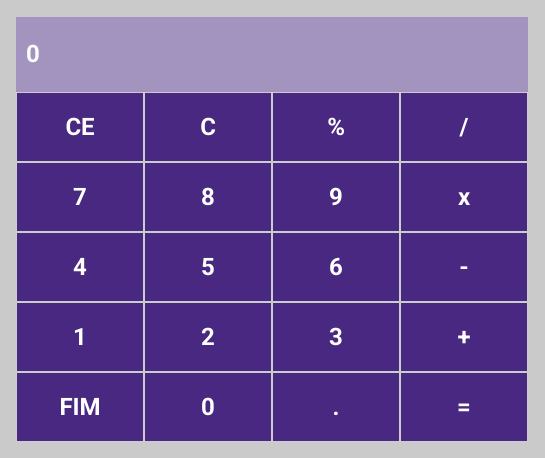
Test case: Calculator Operations › Manipulando operações de Divisão
What coordinates should you click on to do the following:
click the button "6"
I would click on:
 (336, 266)
Its box is top-left (272, 232), bottom-right (400, 302).
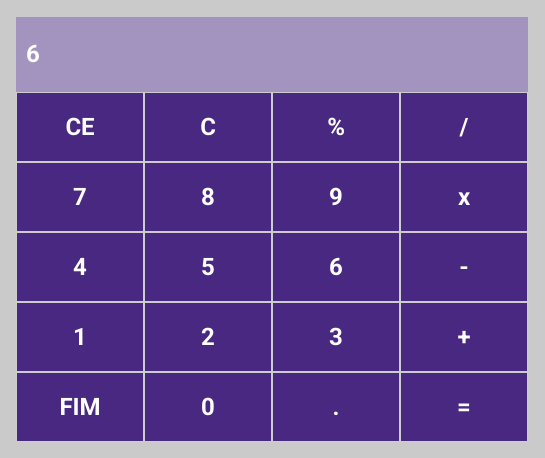
What coordinates should you click on to do the following:
click the button "/"
I would click on:
 (464, 126)
Its box is top-left (400, 92), bottom-right (528, 162).
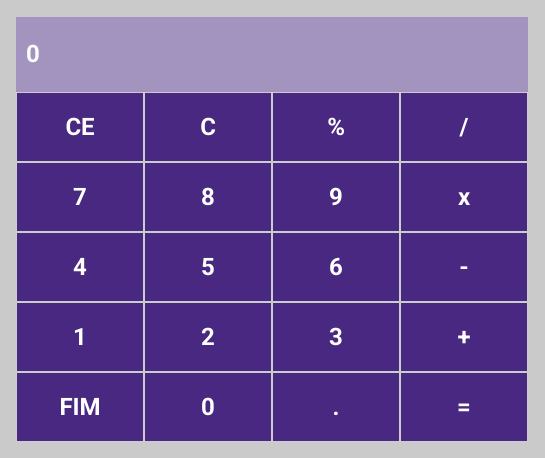
What coordinates should you click on to do the following:
click the button "2"
I would click on:
 (208, 336)
Its box is top-left (144, 302), bottom-right (272, 372).
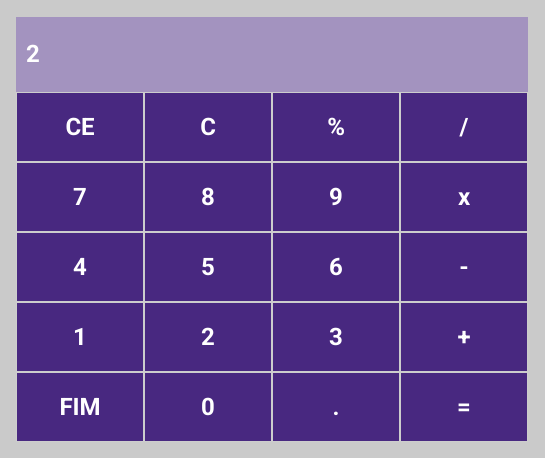
What coordinates should you click on to do the following:
click the button "="
I would click on:
 (464, 406)
Its box is top-left (400, 372), bottom-right (528, 442).
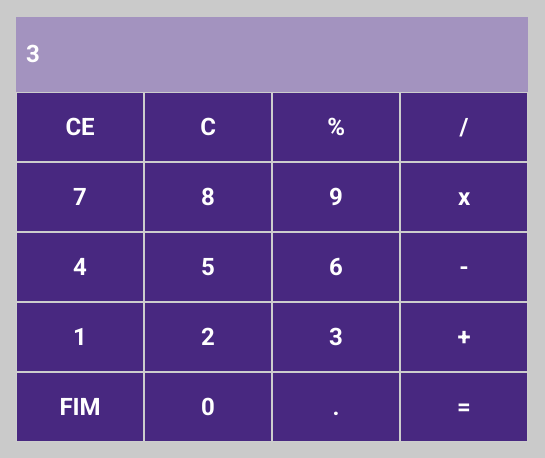
Check: the field showing "3" is shown, box top-left (16, 16), bottom-right (528, 92)
